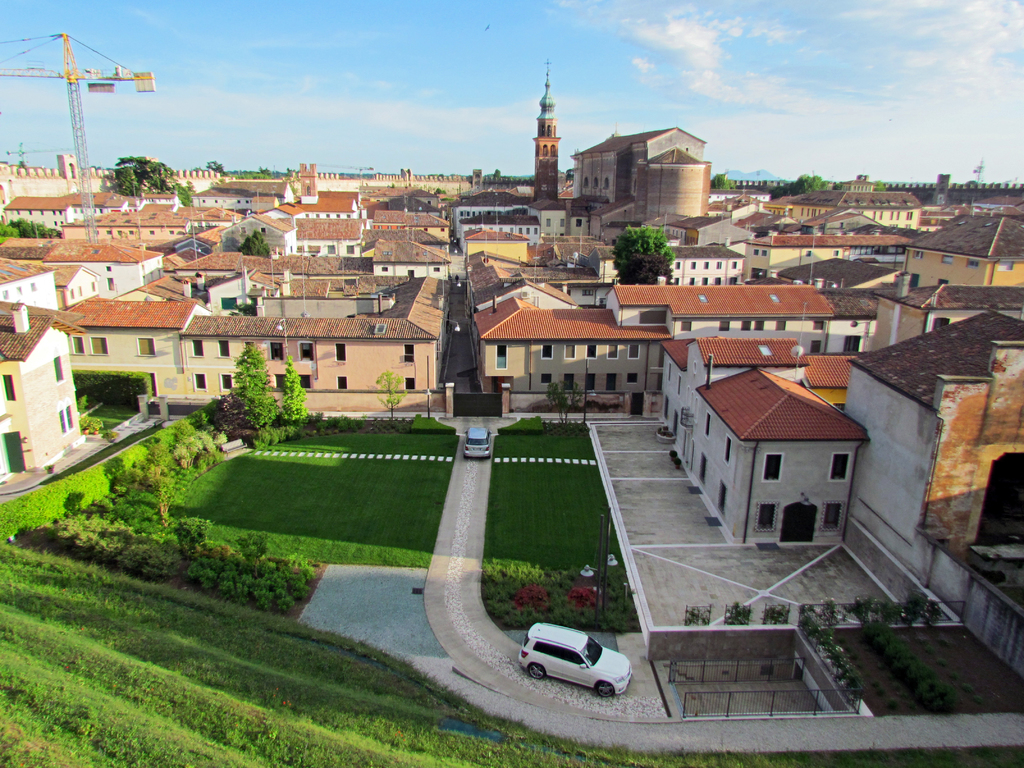Car: (519, 620, 630, 702)
